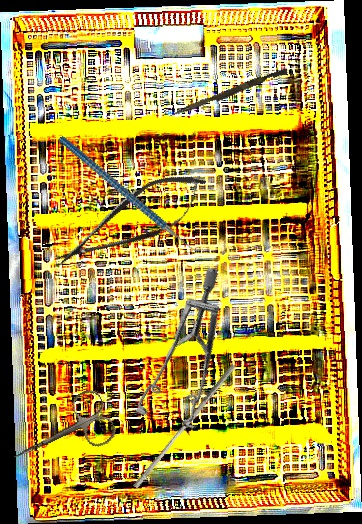Chopper: (57, 100, 212, 290)
Iris Scissors: (1, 386, 120, 482)
Micro Scissor: (45, 158, 218, 285)
Pusher: (132, 359, 237, 493), (168, 64, 288, 123)
Speculum: (93, 264, 286, 452)
